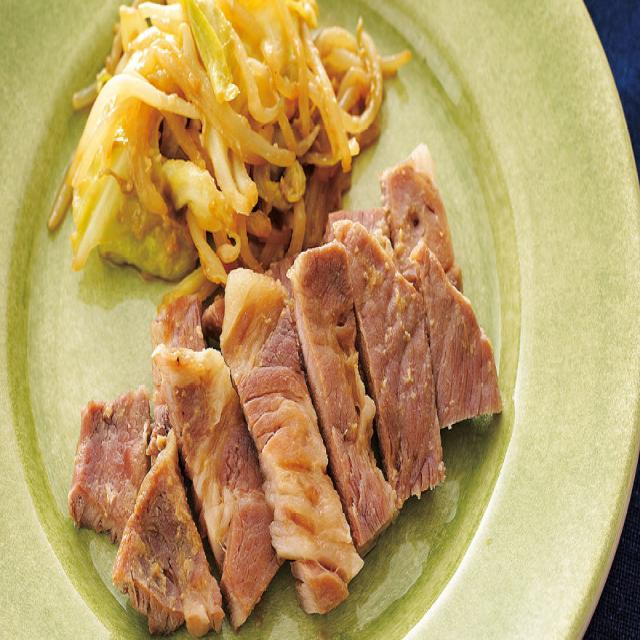OK cooked pork,: (215, 252, 376, 632), (148, 336, 289, 640), (288, 231, 408, 577), (329, 210, 452, 524), (100, 430, 231, 640), (410, 242, 507, 423), (66, 381, 159, 554), (382, 131, 461, 293)
